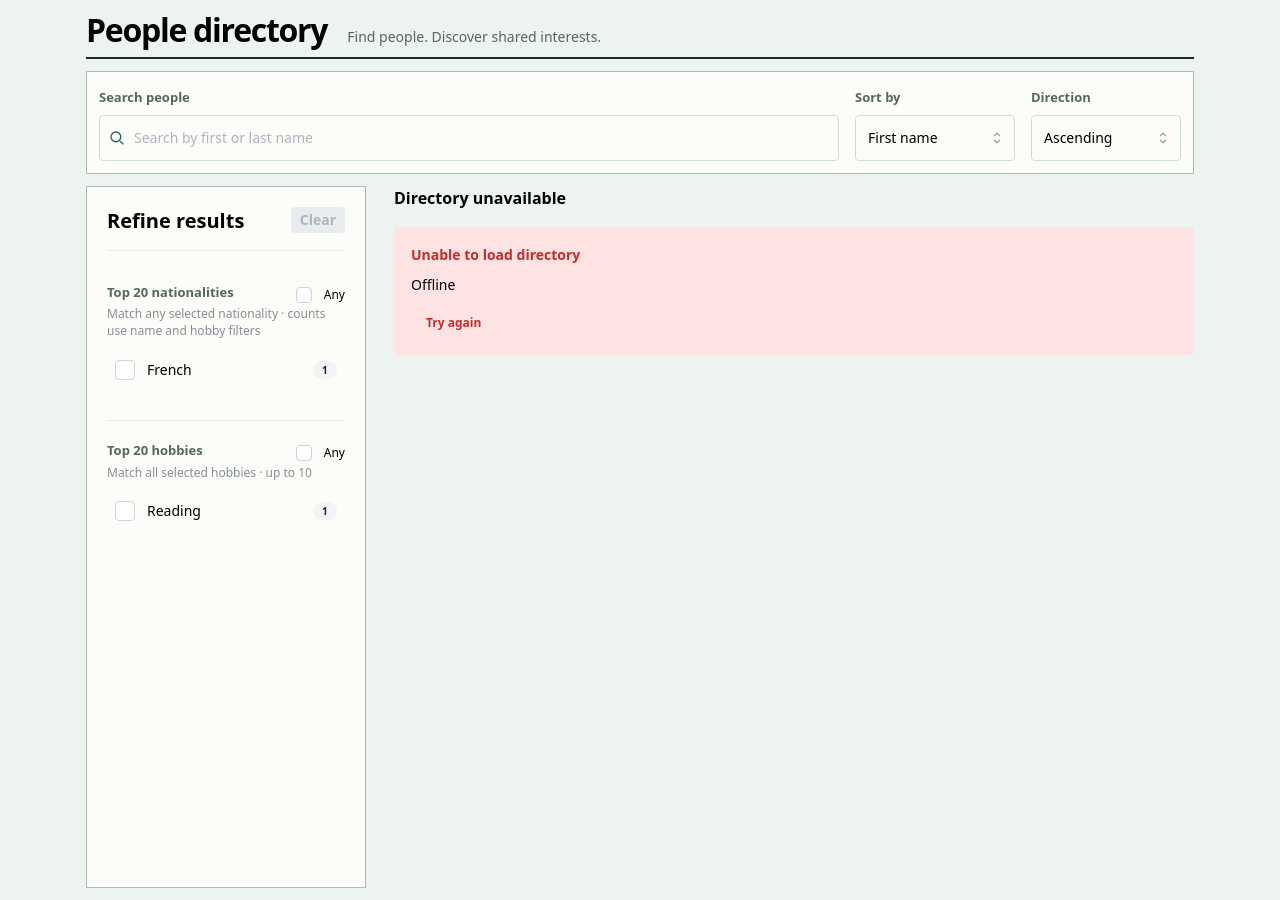
shows request failures and allows retry
Expected: the message "Unable to load directory Offline Try again" is shown, [394,227,1194,355]
Click the button "Try again" at (454, 323), box [411,308,496,338]
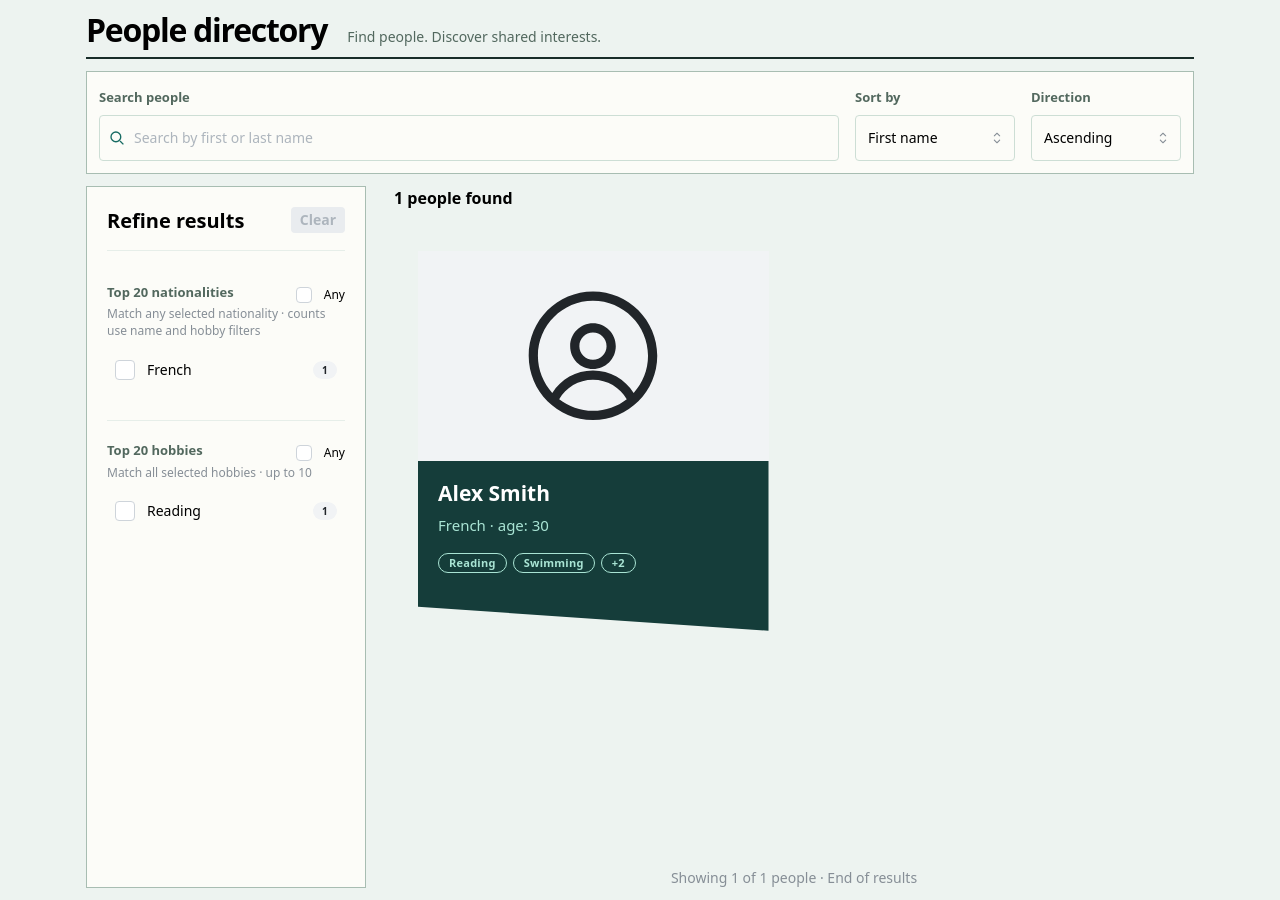
Expected: the element showing "Alex Smith French · age: 30 Reading Swimming +2" is shown, [418,251,768,631]
Expected: the message "Unable to load directory Offline Try again" is gone
